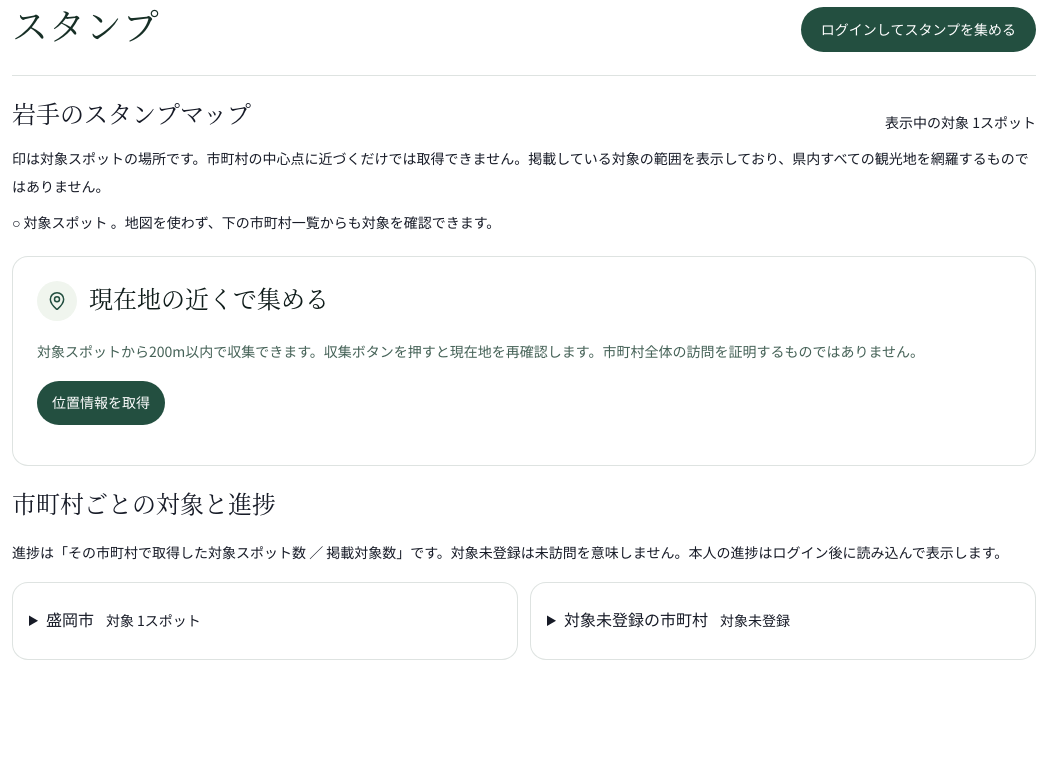
Test: 公開スタンプマップと本人収集 › 未ログインでも対象を閲覧でき、現在地取得だけでは記録もサンプルも保存しない
This screenshot has width=1048, height=768.
expect the heading "岩手のスタンプマップ" is shown: met, box 12,100 -> 251,132
Click the text "盛岡市".
click(70, 618)  # box 46,606 -> 94,630
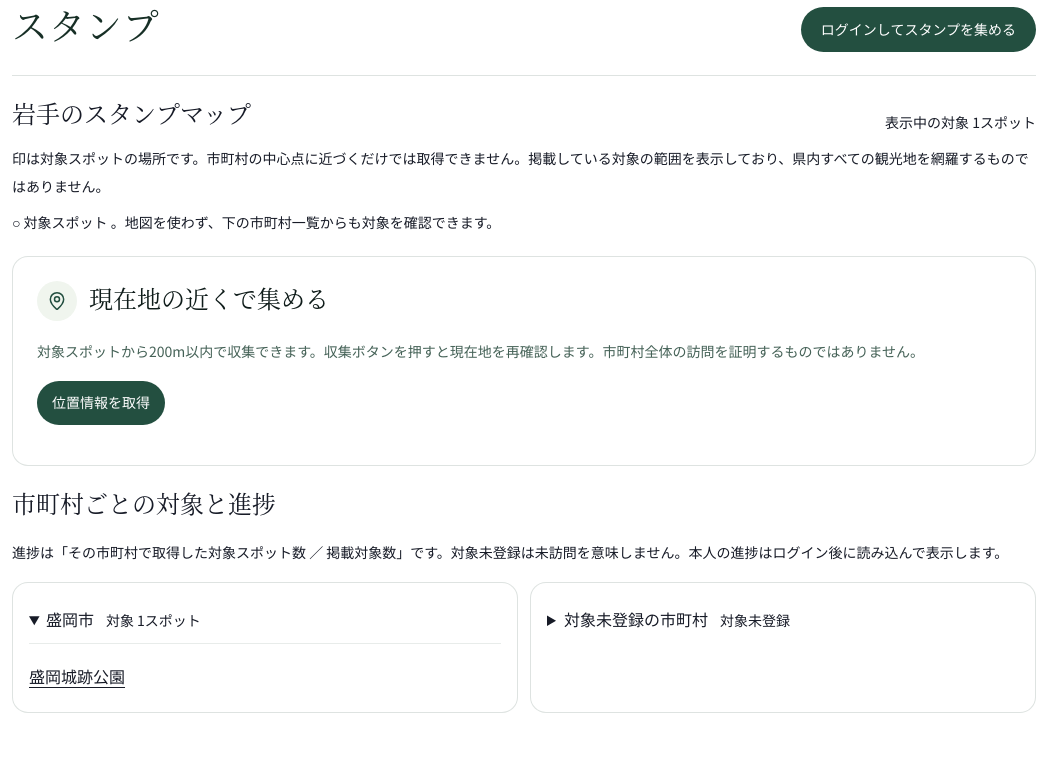
expect the link "盛岡城跡公園" is shown: met, box 29,656 -> 125,696
Click the button "位置情報を取得".
click(101, 402)  # box 37,380 -> 165,424
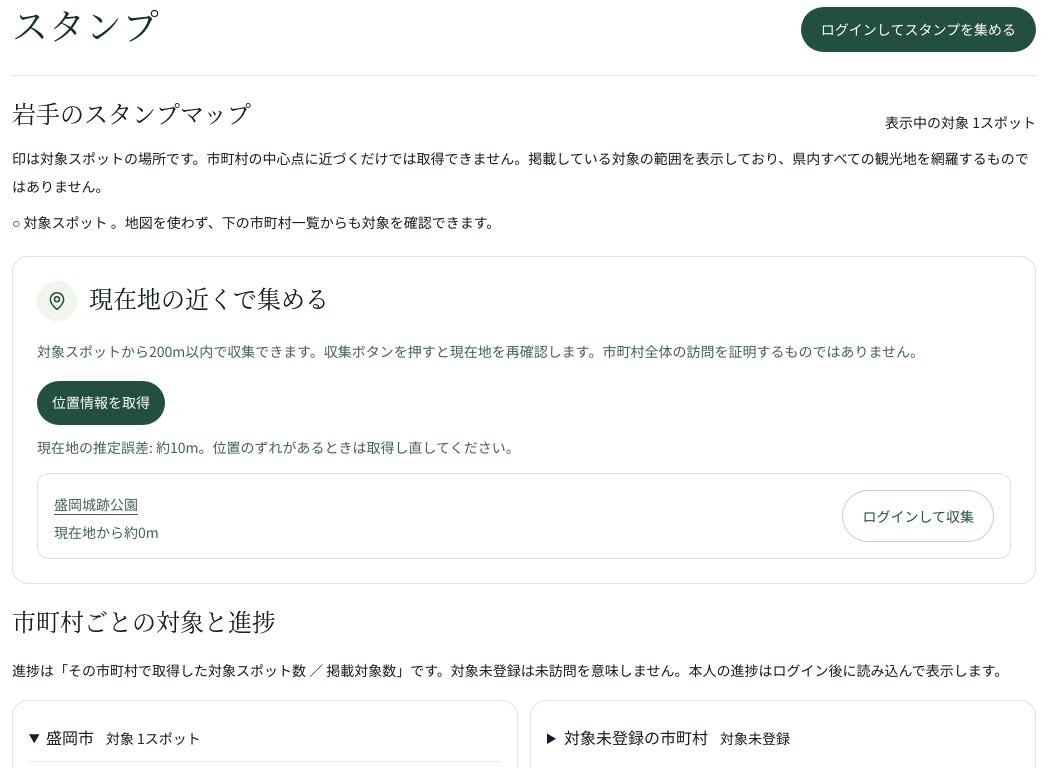
expect the link "ログインして収集" is shown: met, box 842,490 -> 994,542
